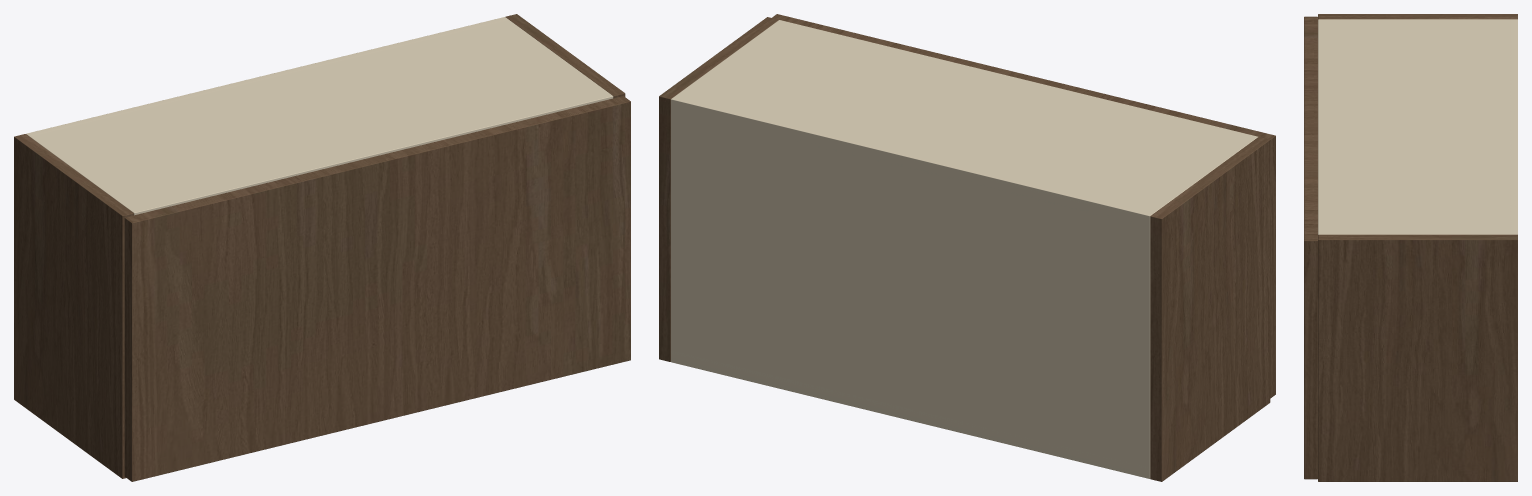
File: oppein-ply-mso-wsl3015.glb
3 views of the same model, side by side, from view 1: azimuth 30°, elevation 25°; view 2: azimuth 150°, elevation 25°; view 3: azimuth 270°, elevation 25° (orthographic). The views are drawn at different scales.
Parts seen in each view (by area): view 1: Door, Cabinet top, Cabinet side, Cabinet back, Cabinet side.001; view 2: Cabinet back, Cabinet top, Cabinet side, Door, Cabinet side.001, Cabinet bottom; view 3: Cabinet side.001, Cabinet top, Door, Cabinet back, Cabinet side.
Boxes of the visible parts, bbox=[...] form: Door: bbox=[124, 96, 630, 481]; Cabinet top: bbox=[26, 17, 613, 215]; Cabinet side: bbox=[14, 134, 133, 478]; Cabinet back: bbox=[27, 17, 508, 136]; Cabinet side.001: bbox=[505, 14, 625, 98]; Cabinet back: bbox=[671, 96, 1153, 478]; Cabinet top: bbox=[671, 20, 1257, 226]; Cabinet side: bbox=[1150, 137, 1270, 481]; Door: bbox=[772, 14, 1275, 398]; Cabinet side.001: bbox=[659, 17, 778, 361]; Cabinet bottom: bbox=[671, 351, 1149, 477]; Cabinet side.001: bbox=[1318, 234, 1517, 481]; Cabinet top: bbox=[1318, 19, 1517, 234]; Door: bbox=[1304, 16, 1317, 479]; Cabinet back: bbox=[1510, 19, 1517, 234]; Cabinet side: bbox=[1318, 14, 1517, 19].
Size of the model in its own units: 0.762 by 0.381 by 0.3048.
2 materials, 1 textured.
